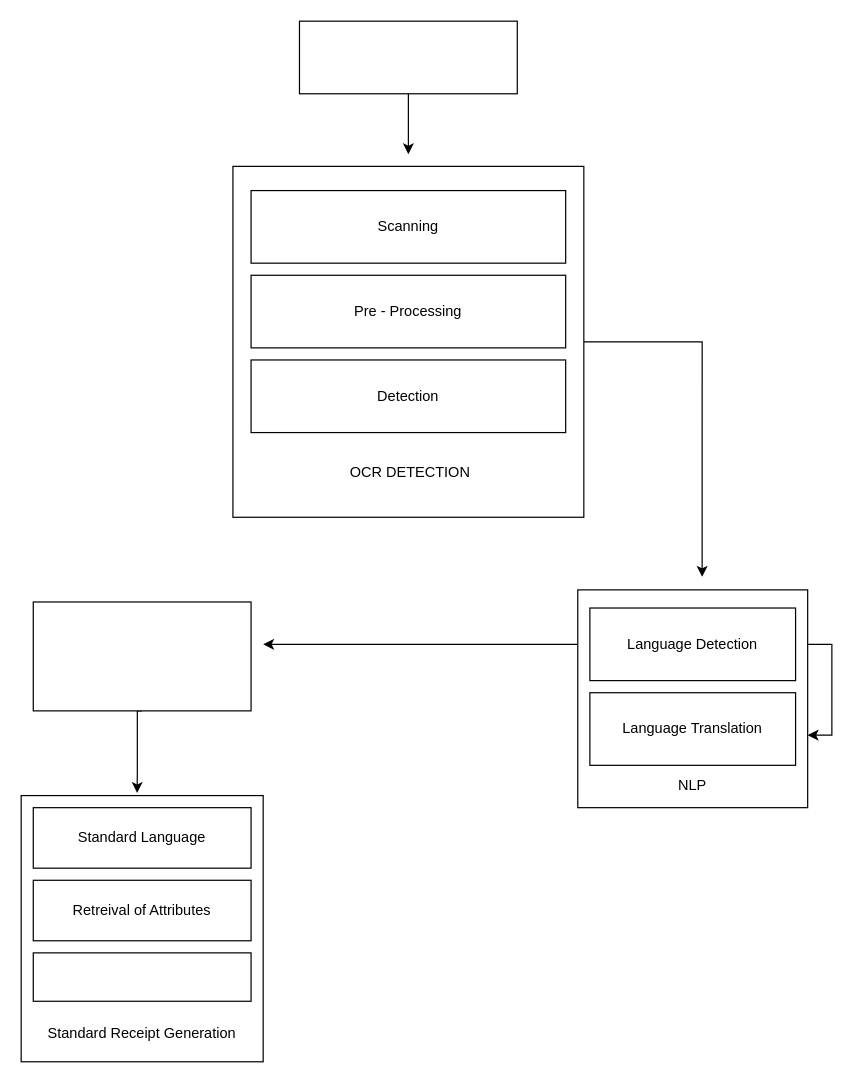
Image size: 863x1083. Some labels were removed from this diagram. Here are the shapes that lost their labels. From the top down, the centre of each, then its label:
At point 407,57: "Input Docs".
At point 141,656: "Database ( Storage )".
At point 141,976: "Accessing Receipts".
